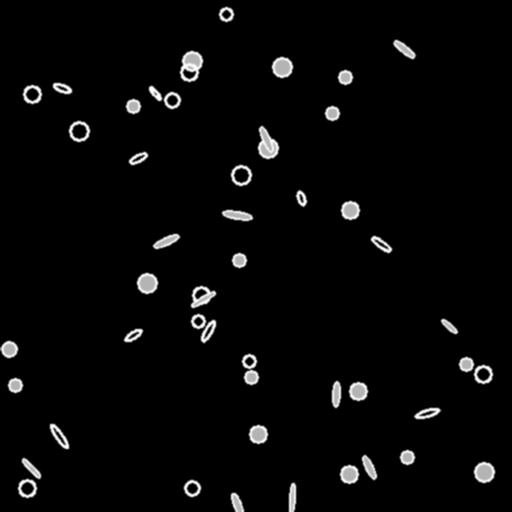pseudomonas: (48, 422, 70, 450), (152, 232, 180, 250), (190, 290, 216, 308), (393, 39, 415, 59), (199, 319, 217, 343), (258, 126, 274, 152), (21, 458, 41, 478), (370, 235, 392, 253), (361, 455, 377, 479), (229, 492, 245, 512), (222, 210, 252, 220), (440, 318, 458, 334), (415, 407, 439, 419), (128, 151, 148, 165), (124, 328, 142, 342), (52, 82, 72, 94), (148, 85, 162, 101), (332, 381, 340, 407), (295, 190, 307, 206), (289, 484, 295, 512)
synechocystis: (232, 166, 250, 184), (183, 52, 201, 70), (70, 122, 88, 140), (259, 139, 277, 157), (138, 274, 156, 292), (273, 58, 291, 76), (475, 463, 493, 481), (350, 383, 366, 399), (475, 366, 491, 382), (19, 480, 35, 496), (341, 466, 357, 482), (181, 64, 197, 80), (24, 86, 40, 102), (250, 426, 266, 442), (193, 287, 209, 303), (342, 202, 358, 218), (165, 93, 179, 107), (185, 481, 199, 495), (2, 342, 16, 356), (192, 315, 204, 327), (233, 254, 245, 266), (401, 451, 413, 463), (460, 358, 472, 370), (9, 379, 21, 391), (326, 107, 338, 119), (243, 355, 255, 367), (220, 8, 232, 20), (339, 71, 351, 83), (127, 100, 139, 112), (245, 371, 257, 383)
